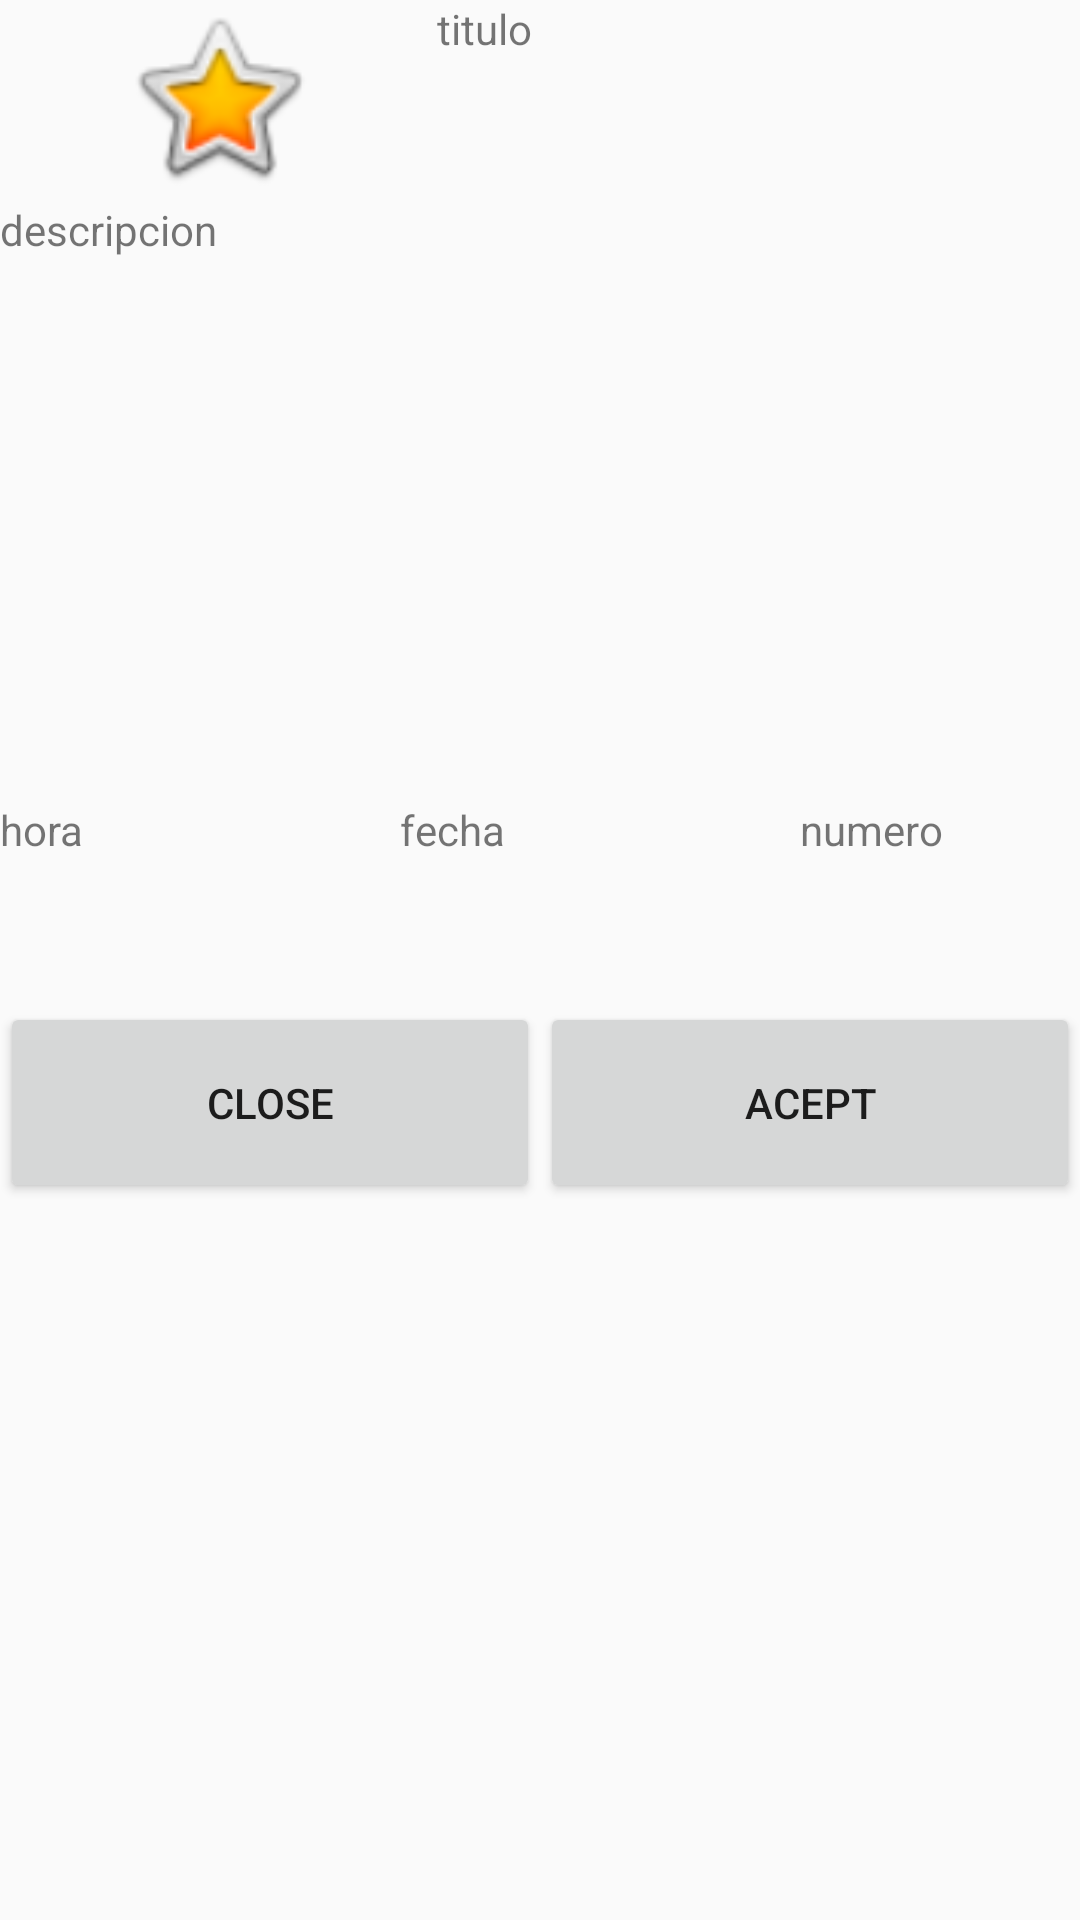

Named icons in this screenshot (1080 x 1920) and their bounding boxes, (x1, y1, x2, y2):
star on: (139, 20, 302, 178)
